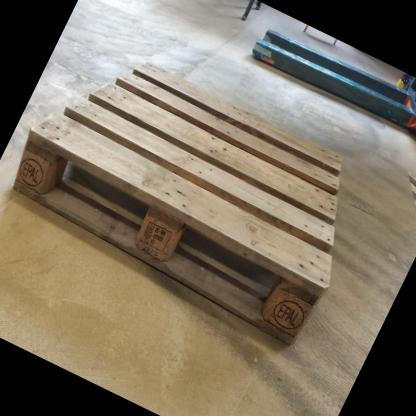BoxFace: (7, 55, 346, 358)
